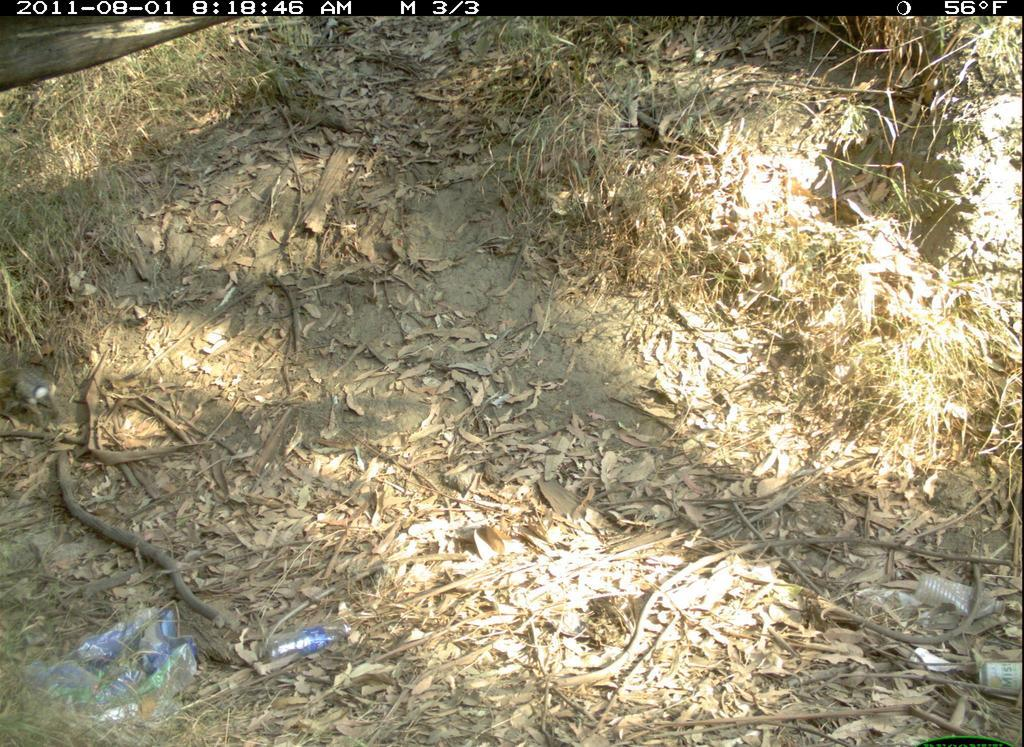rabbit: (1, 323, 65, 436)
